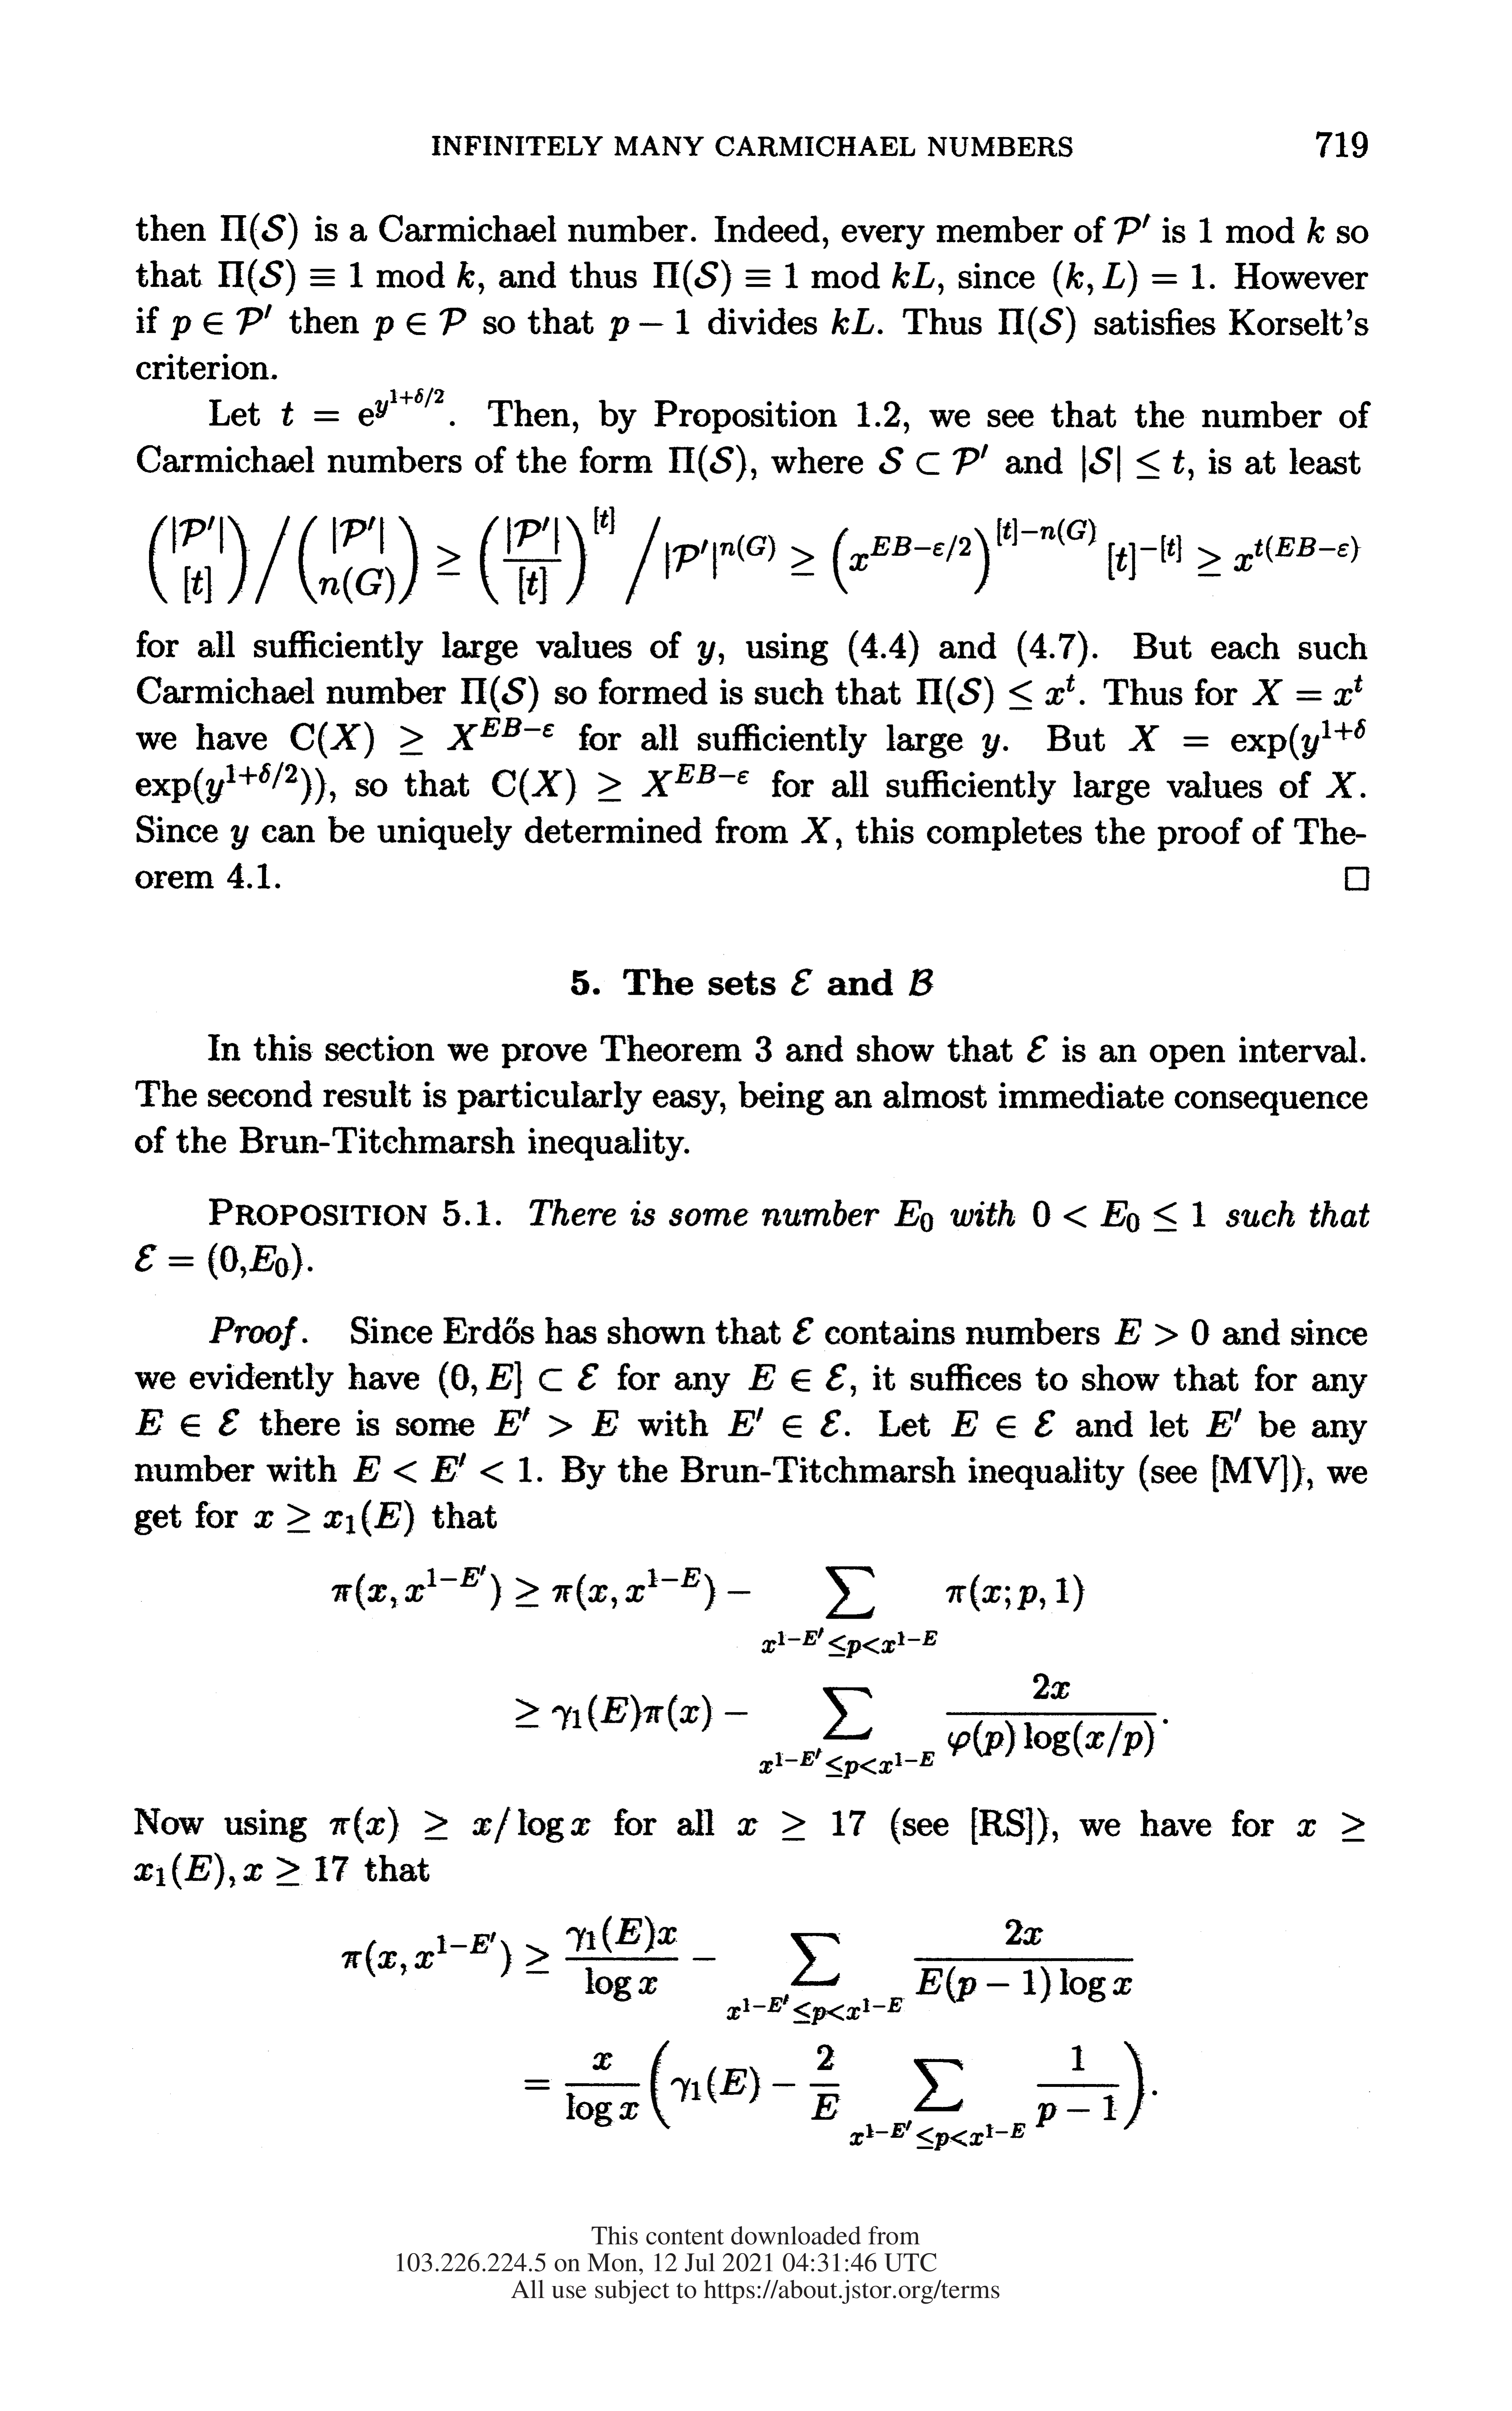maths: (148, 507, 1360, 604), (341, 1916, 1132, 2024), (331, 1564, 1085, 1658), (524, 2040, 1146, 2150), (516, 1672, 1157, 1779), (491, 763, 749, 805), (291, 718, 554, 758), (1129, 718, 1366, 760), (329, 1807, 591, 1843), (136, 761, 326, 805), (134, 1852, 348, 1890), (282, 387, 444, 425), (134, 1244, 303, 1280), (916, 674, 1075, 712), (439, 1361, 597, 1399), (254, 1500, 415, 1536), (1054, 260, 1204, 296), (1033, 1200, 1205, 1232), (354, 1453, 531, 1482), (218, 260, 334, 296), (653, 260, 770, 296), (737, 1810, 866, 1841), (495, 1406, 618, 1437), (786, 261, 934, 287), (1082, 446, 1185, 483), (171, 305, 272, 340), (1252, 674, 1362, 706), (880, 444, 988, 476), (728, 1408, 841, 1437), (373, 307, 465, 340), (951, 1409, 1056, 1437), (136, 1409, 239, 1437), (221, 213, 298, 249), (998, 307, 1075, 343), (669, 444, 746, 481), (462, 676, 538, 712), (1226, 216, 1324, 244), (749, 1364, 847, 1392), (608, 308, 688, 340), (1115, 1319, 1209, 1345), (1298, 1812, 1364, 1841), (894, 1200, 934, 1232), (833, 308, 874, 334), (1115, 214, 1151, 244), (1205, 1408, 1242, 1437), (1326, 772, 1355, 798), (801, 817, 831, 843), (909, 969, 934, 995), (1345, 866, 1369, 890), (791, 969, 813, 995), (793, 1317, 813, 1345), (1028, 1035, 1047, 1063), (697, 641, 716, 665), (230, 826, 249, 850), (456, 261, 474, 287), (1293, 1455, 1305, 1491), (982, 733, 1000, 758)
